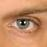eye: (17, 20, 30, 29)
